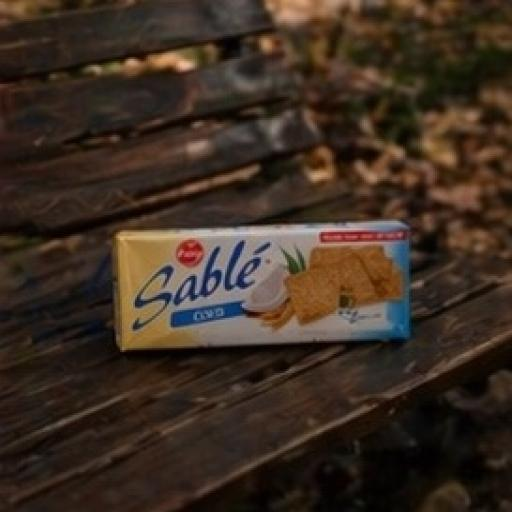sabl: (82, 170, 451, 425)
